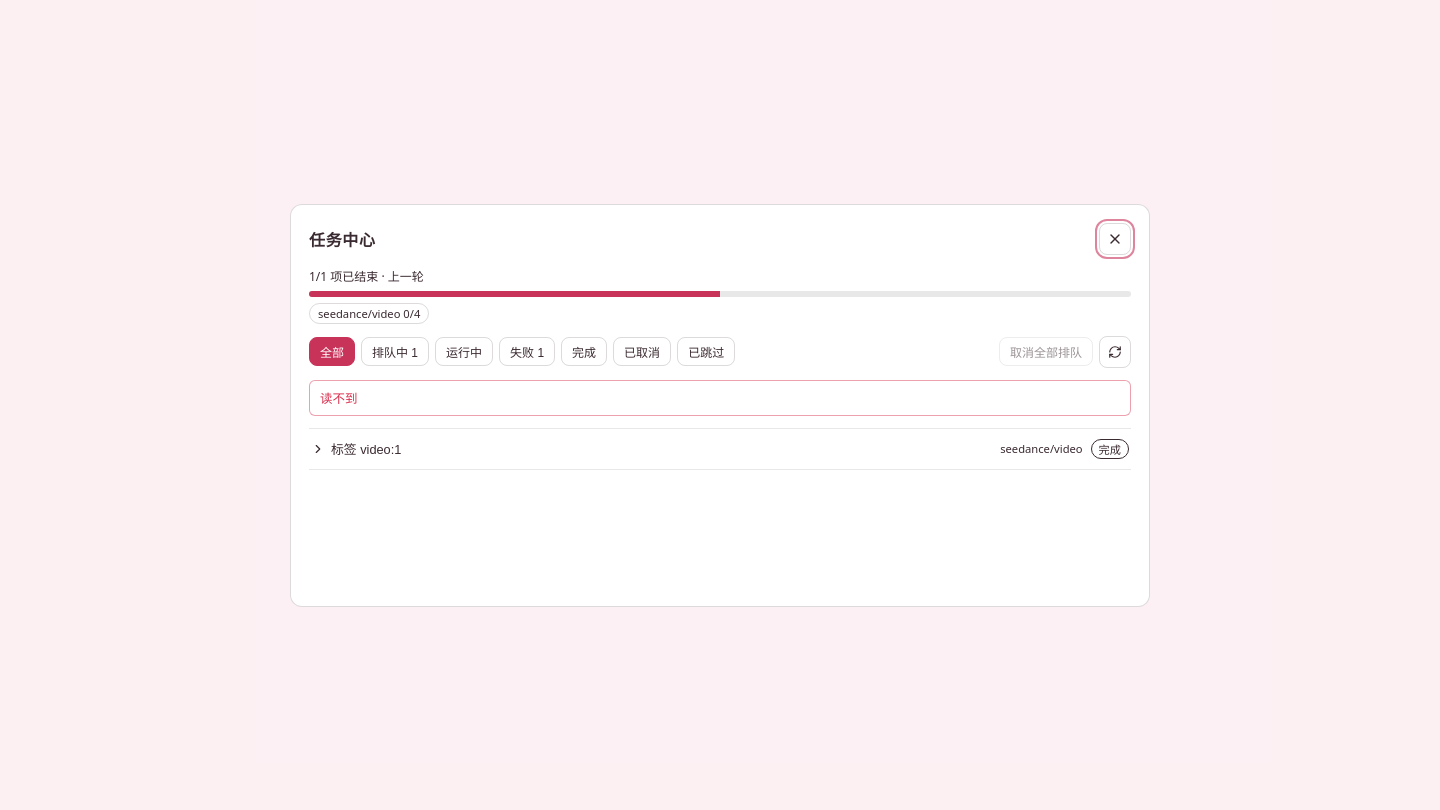
Test case: TaskCenter › drops the read error once a manual refresh works
The image size is (1440, 810).
expect the message reads "读不到": met, box [320,390,357,406]
Click the button named "刷新".
click(1115, 352)  # box [1099,336,1131,368]
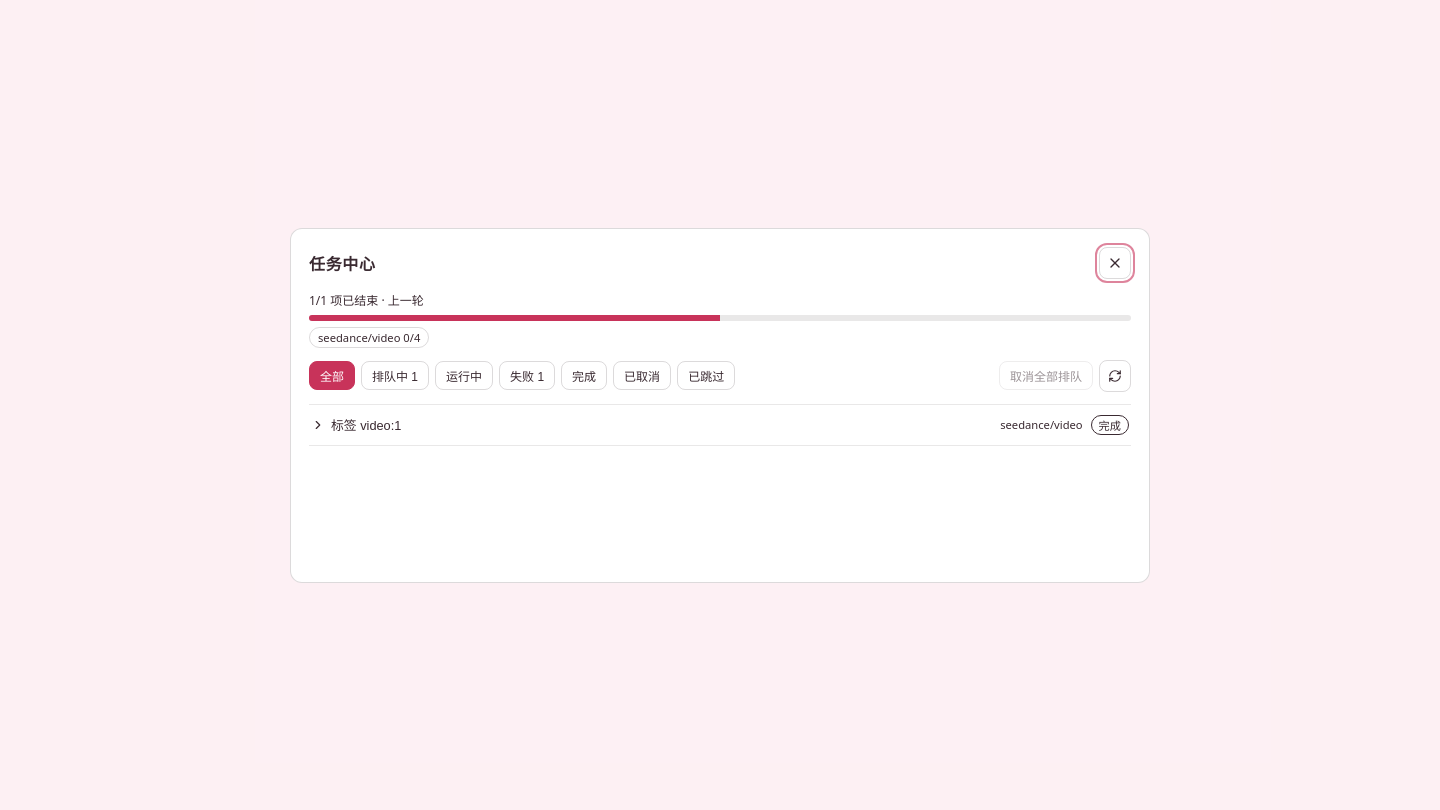
expect the message "读不到" is gone: met
